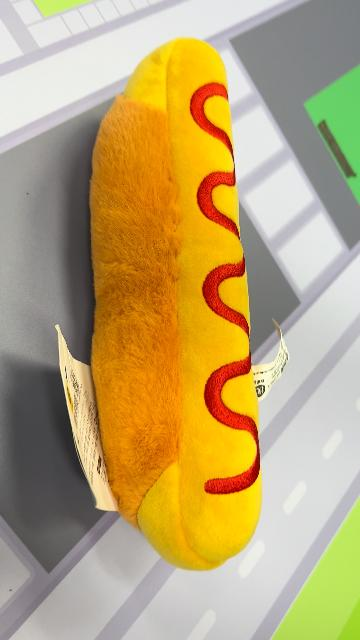hotdog: (88, 36, 264, 572)
